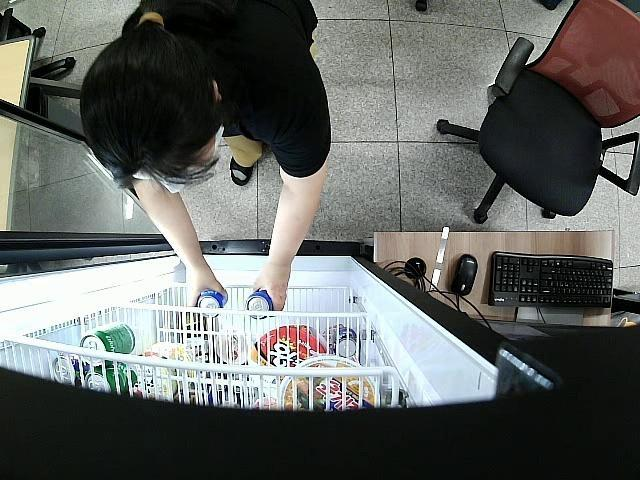13_pocariSweat: (196, 290, 227, 319), (247, 290, 274, 321)
